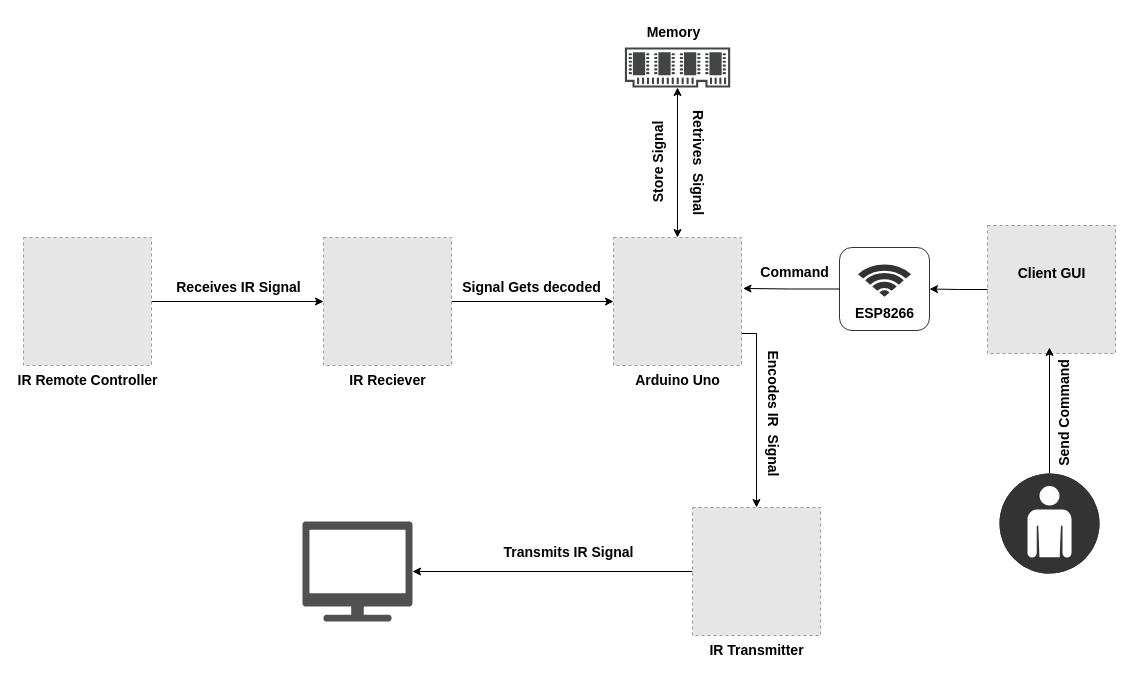
Some shapes in this 1133 by 676 pixel diagram are drawn without their labels. Grey dashed boxes stand in for pictures. Each missing label, with the centre of its shape:
"IR Controlled Device" belongs at point (357, 571).
"User" belongs at point (1049, 523).
